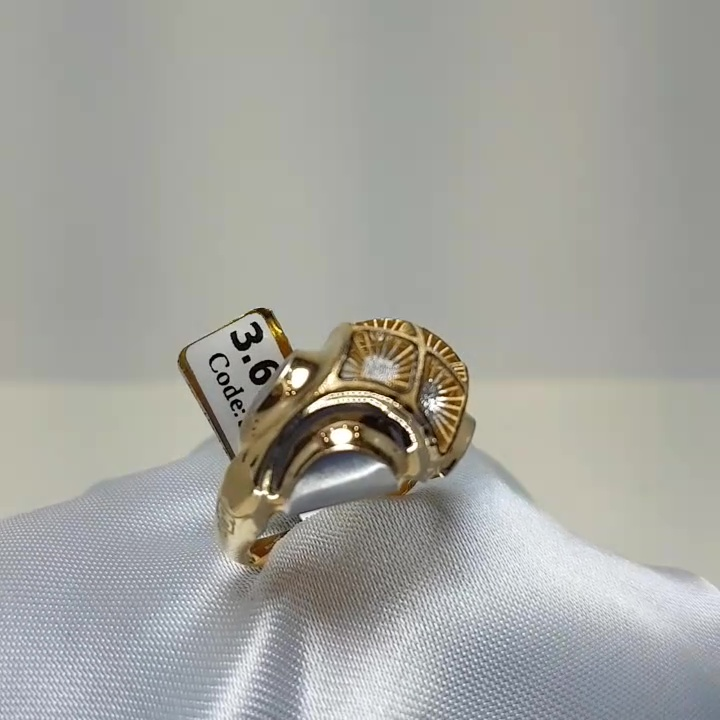Ring 2: (152, 272, 522, 573)
